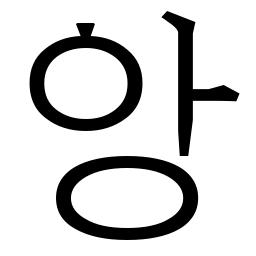Gaji: (161, 66, 214, 119)
